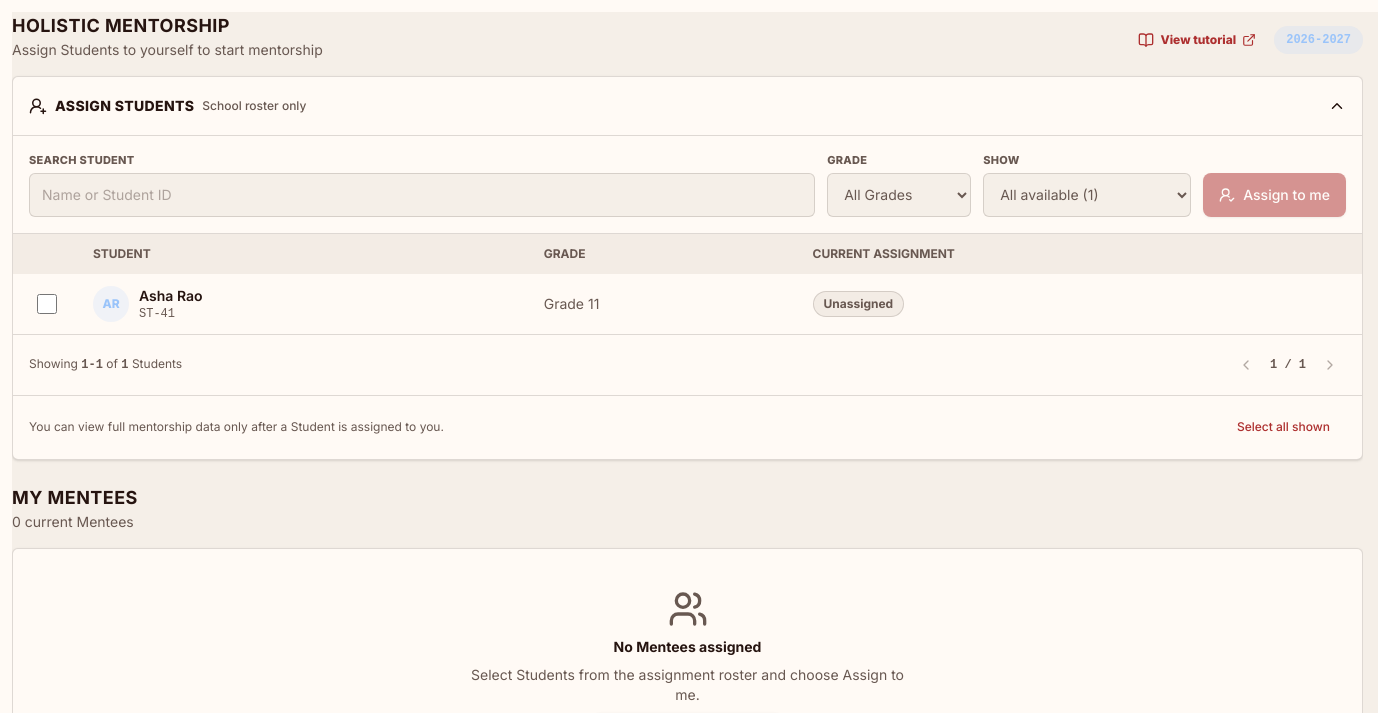
Test: TeacherMappingWorkspace › refreshes ownership and announces a stale Mapping conflict
Step 1. Click the checkbox named "Select Asha Rao" → (47, 304), box [37,294,57,314]
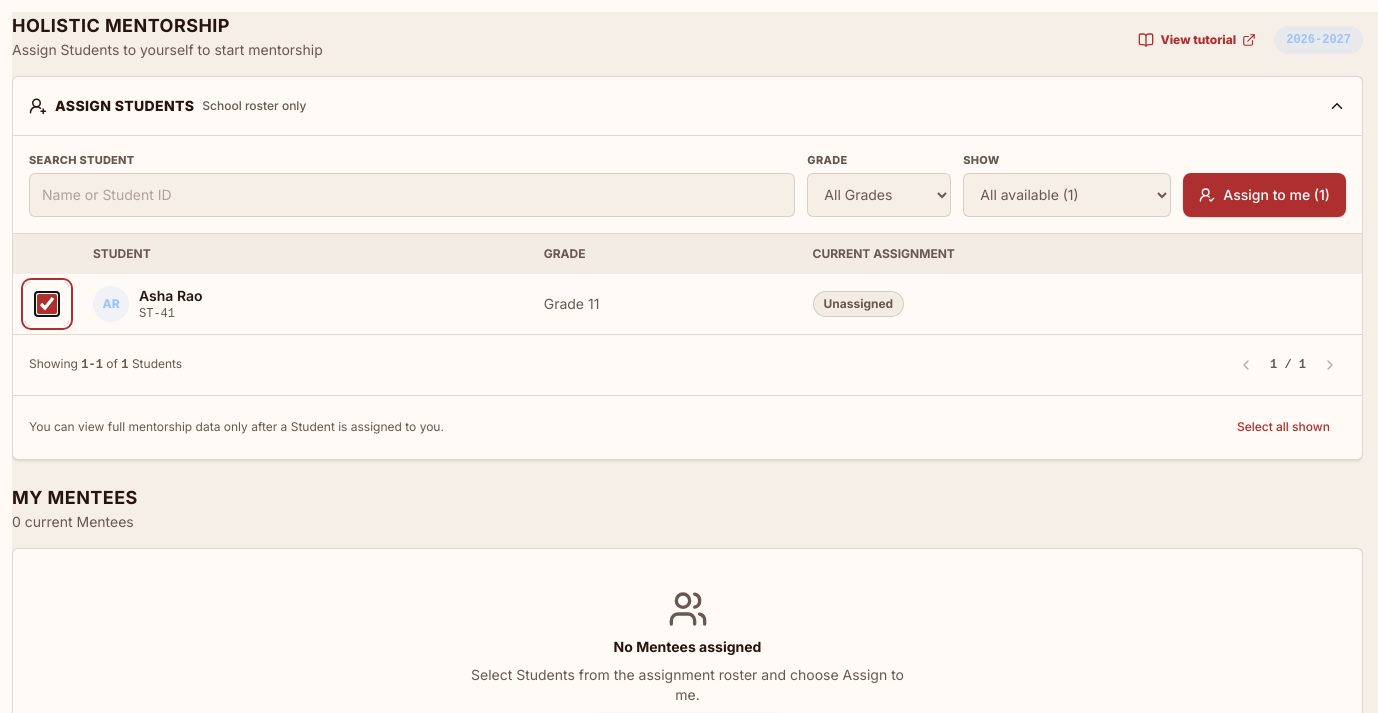
Step 2. Click the button "Assign to me (1)" → (1265, 194), box [1183,172,1346,216]
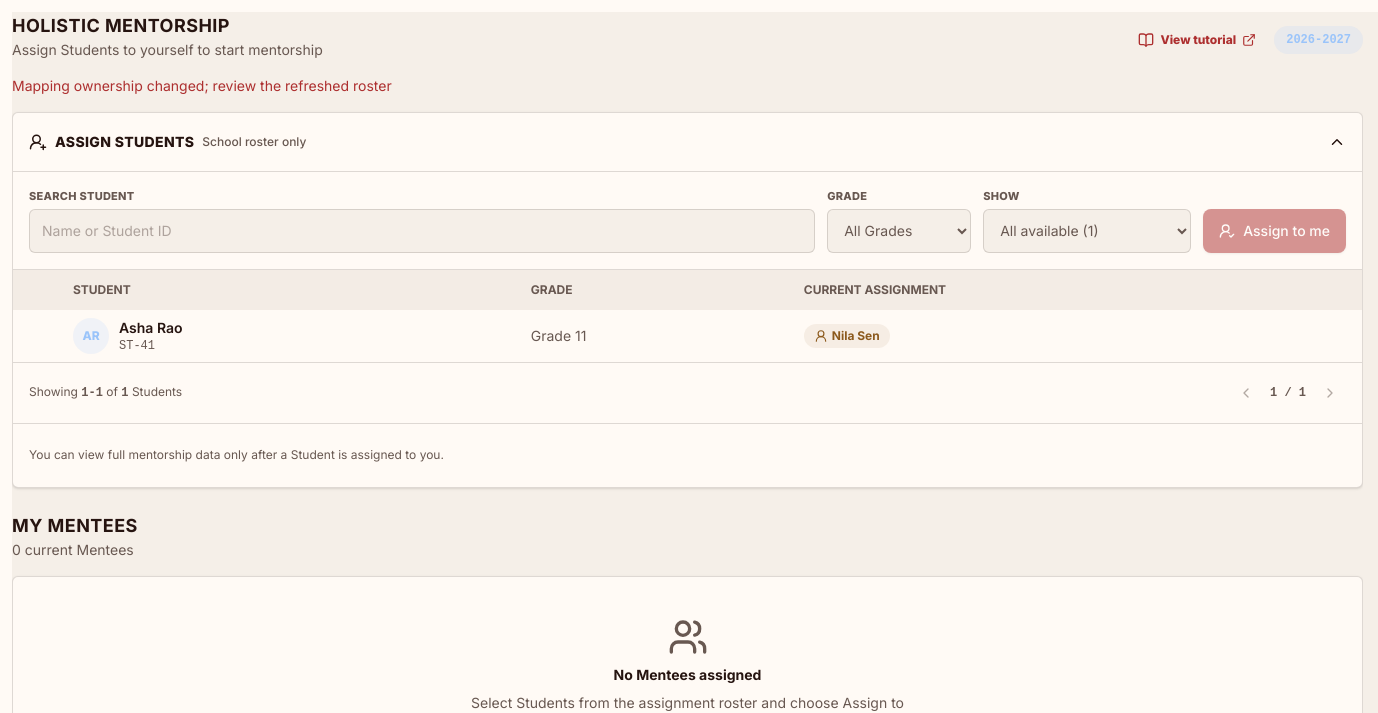
Now the message reads "Mapping ownership changed; review the refreshed roster", box [12,77,392,94]
Now the text "Nila Sen" is shown, box [804,324,890,348]
